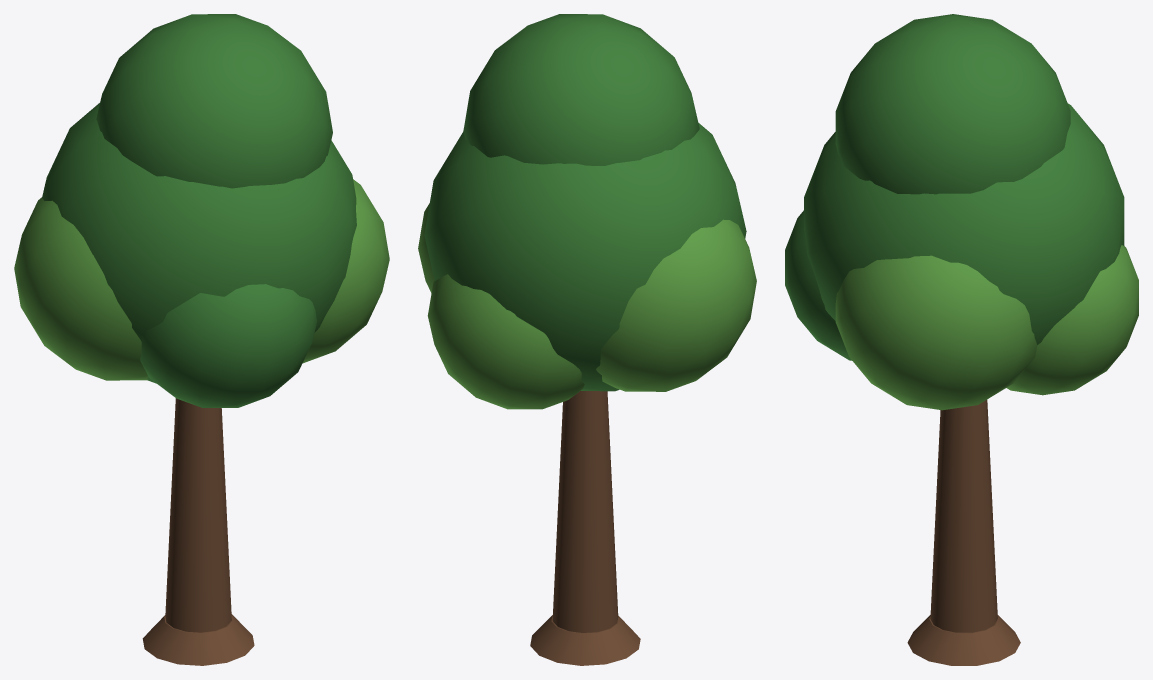
The model's file is demo-tree.glb.
3 renders of one model, left to right at view 1: azimuth 30°, elevation 25°; view 2: azimuth 150°, elevation 25°; view 3: azimuth 270°, elevation 25°, orthographic.
Visible parts, largest first — view 1: crown, trunk, DemoTree; view 2: crown, trunk, DemoTree; view 3: crown, trunk, DemoTree.
Boxes of the visible parts, left/top/right/bottom form: crown: left=14, top=14, right=389, bottom=407; trunk: left=165, top=398, right=231, bottom=632; DemoTree: left=142, top=614, right=254, bottom=665; crown: left=418, top=14, right=756, bottom=409; trunk: left=552, top=391, right=618, bottom=632; DemoTree: left=530, top=615, right=640, bottom=665; crown: left=785, top=14, right=1138, bottom=410; trunk: left=930, top=400, right=997, bottom=632; DemoTree: left=907, top=615, right=1020, bottom=665.
Size of the model in its own units: 1.73 by 3.14 by 1.62.
